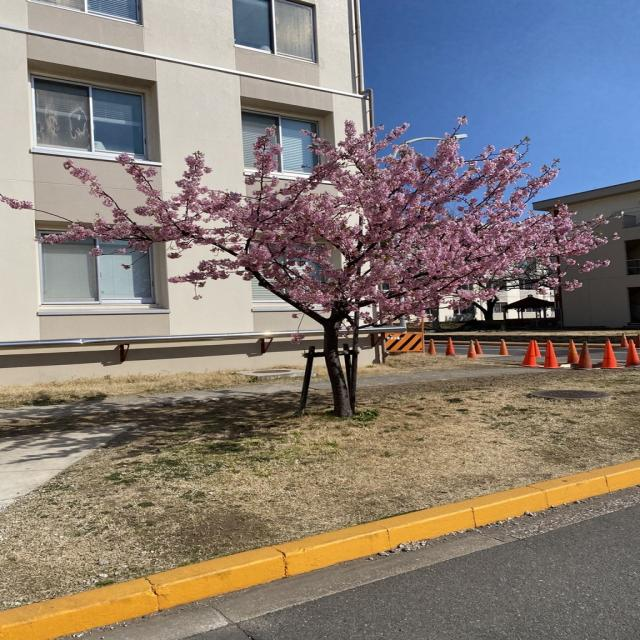sakura: (0, 112, 625, 418)
